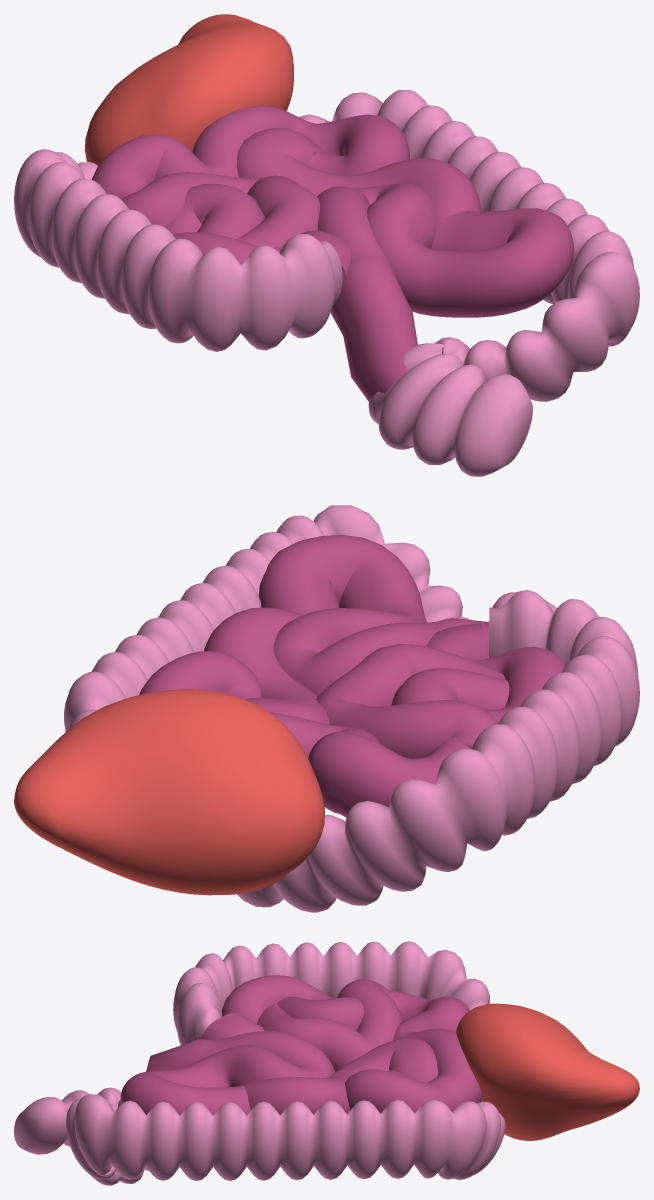
File: Intestines.glb
The picture shows the model from 3 angles, top to bottom: view 1: azimuth 30°, elevation 25°; view 2: azimuth 150°, elevation 25°; view 3: azimuth 270°, elevation 25°; orthographic projection. The views are drawn at different scales.
Parts seen in each view (by area): view 1: Digestive system; view 2: Digestive system; view 3: Digestive system.
Boxes of the visible parts, left/top/right/bottom form: Digestive system: left=14, top=14, right=639, bottom=476; Digestive system: left=14, top=505, right=639, bottom=912; Digestive system: left=14, top=941, right=639, bottom=1185.
Size of the model in its own units: 8.43 by 3.87 by 13.84.
